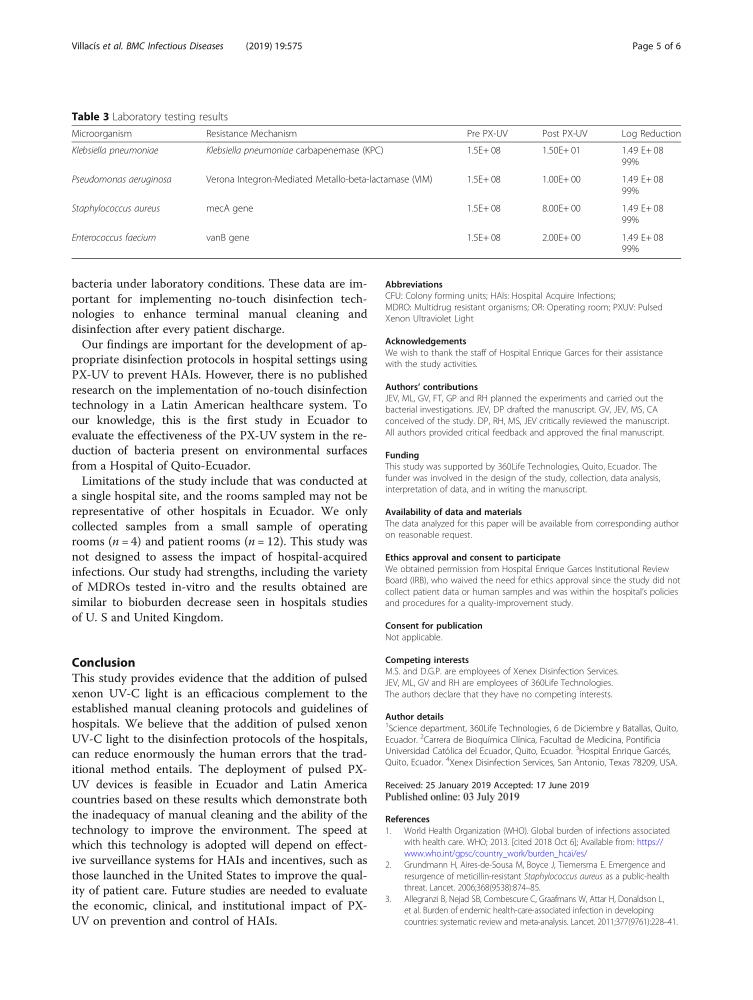table: (71, 128, 680, 254)
